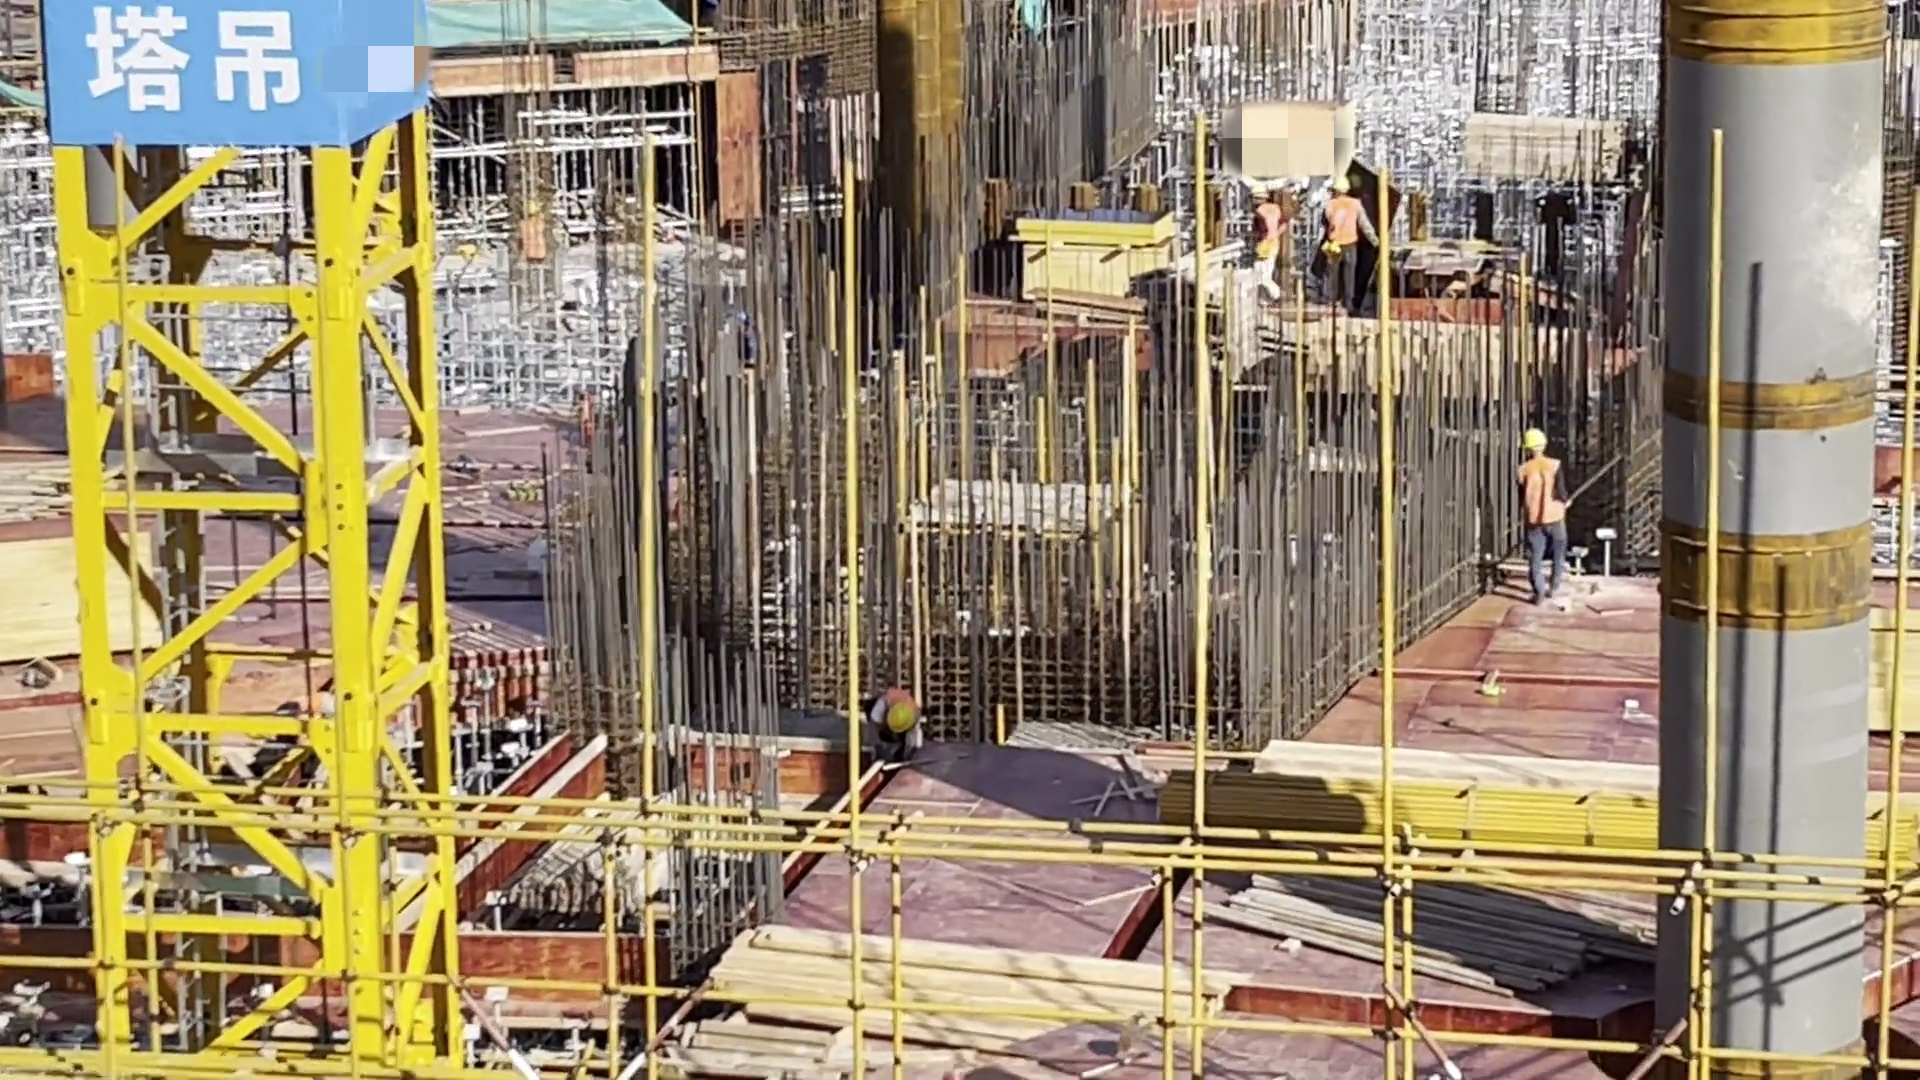board: (1, 509, 141, 685), (1019, 213, 1165, 296)
helmet: (881, 691, 922, 745), (1516, 426, 1554, 463), (1250, 183, 1281, 213), (1322, 172, 1350, 197)
person: (1520, 422, 1569, 613), (1319, 172, 1375, 311), (866, 681, 931, 761), (1251, 177, 1286, 318)
slogan: (62, 1, 415, 146)
vest: (1519, 455, 1575, 526), (1321, 193, 1365, 248)
wood: (697, 916, 1216, 1070), (1461, 116, 1625, 195)
